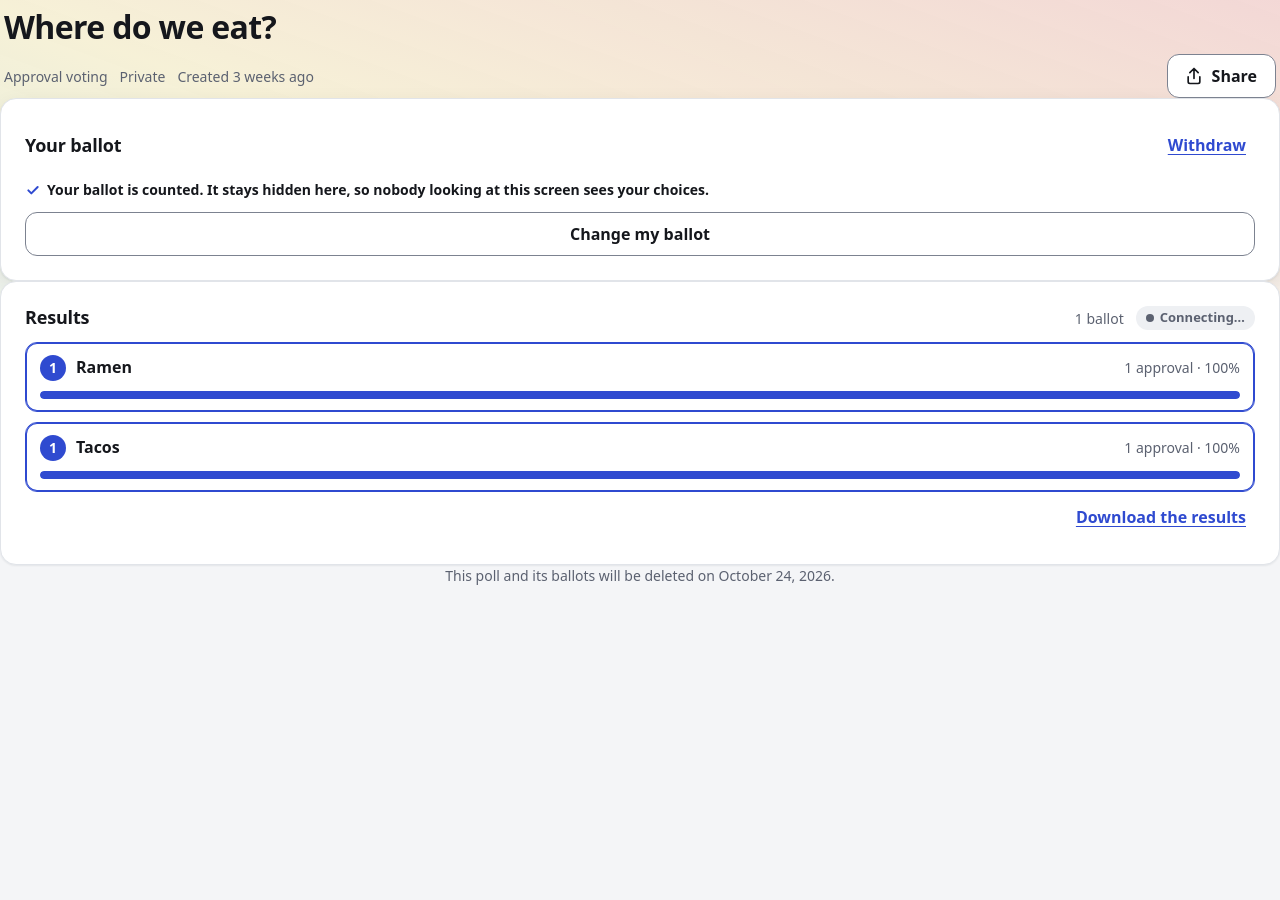
a counted ballot › cannot be hidden with changes not submitted yet
The image size is (1280, 900).
Click the button "Change my ballot": (640, 234) [25,212,1255,256]
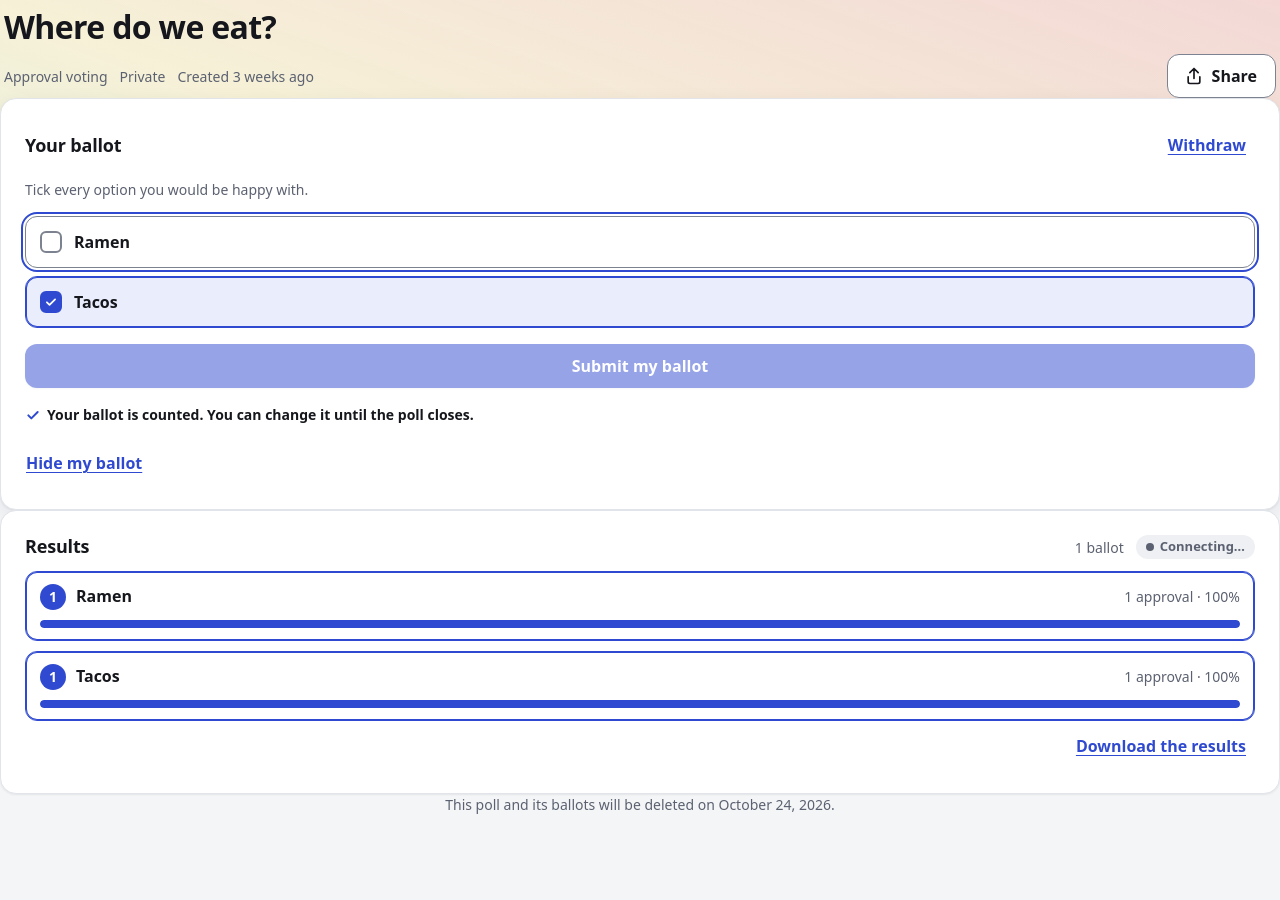
Click the checkbox labelled "Ramen": (640, 242) [25,216,1255,268]
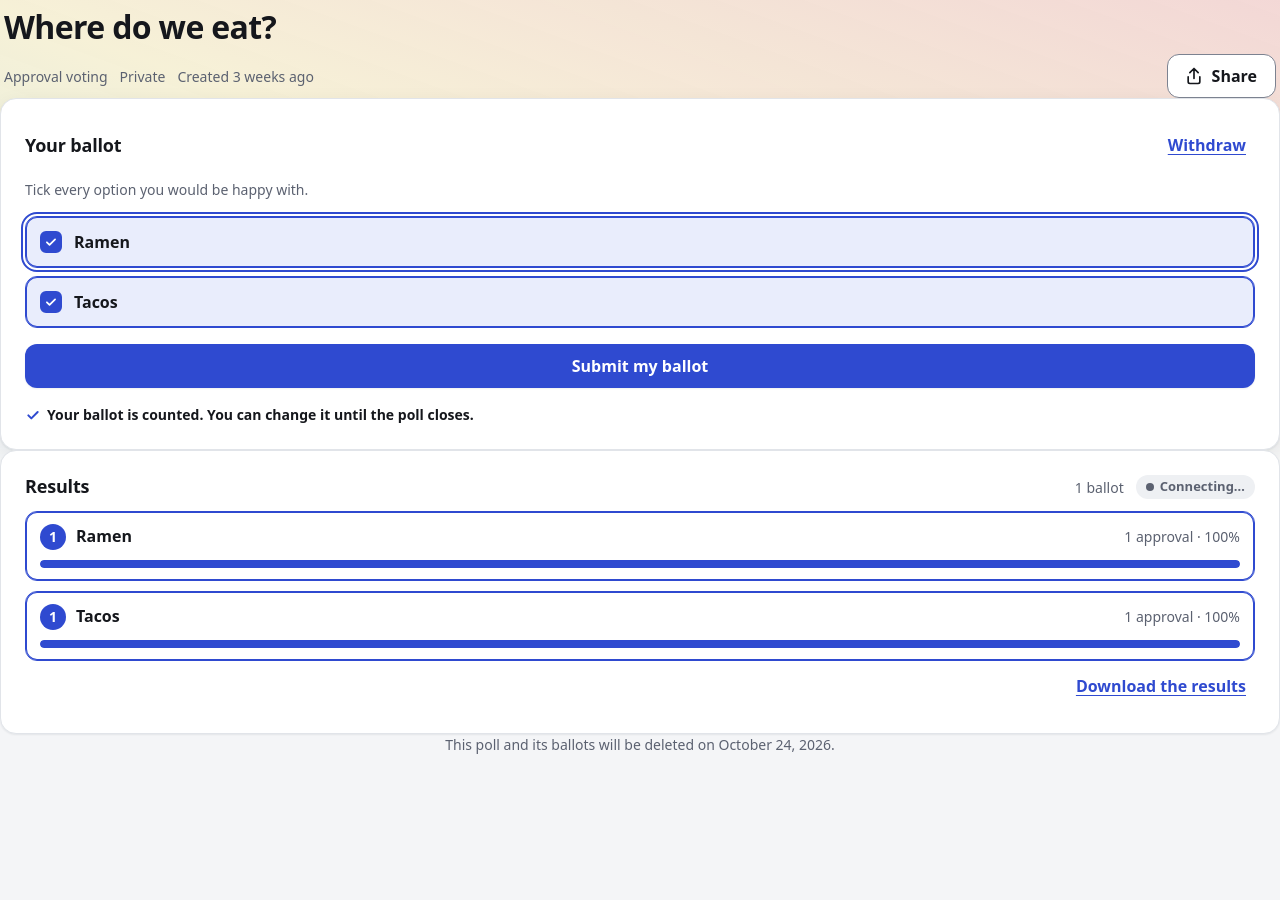
Now the button "Hide my ballot" is gone
Now the button "Submit my ballot" is enabled, box [25,344,1255,388]
